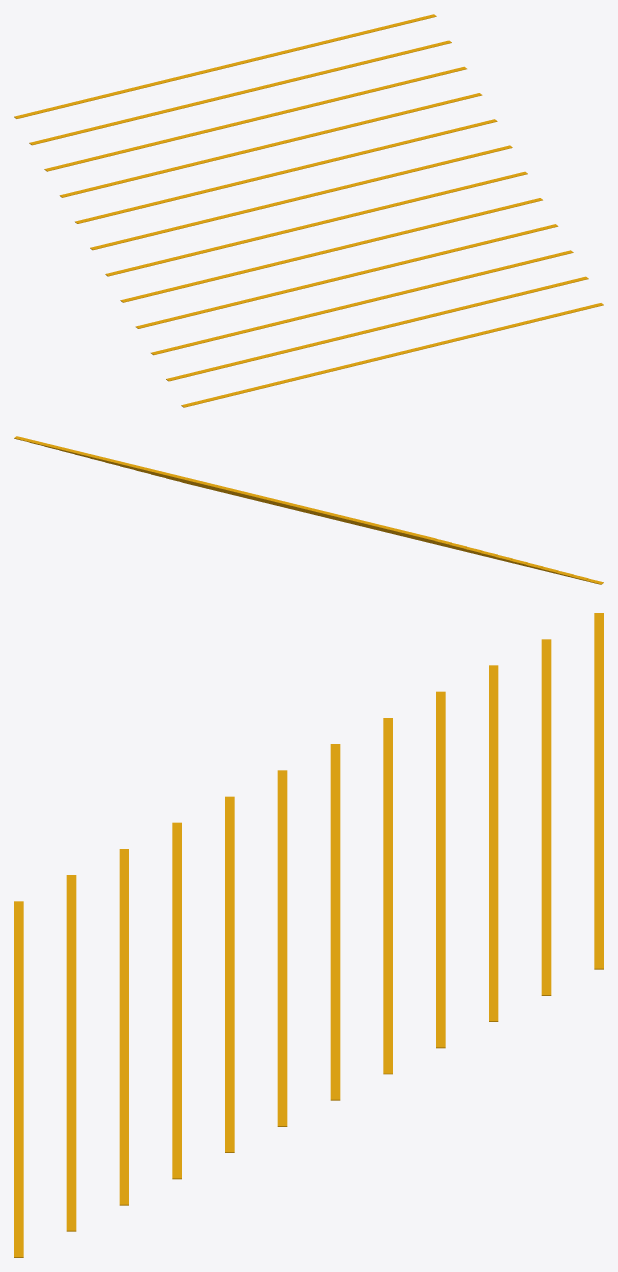
The model's file is gteki_ik_stair_n12_r165_t301_w4817_nosing.glb.
3 renders of one model, top to bottom at view 1: azimuth 30°, elevation 25°; view 2: azimuth 150°, elevation 25°; view 3: azimuth 270°, elevation 25°, orthographic. The views are drawn at different scales.
Parts seen in each view (by area): view 1: VIS_body; view 2: VIS_body; view 3: VIS_body.
Part boxes in pixels (x1,y1,x2,y2): VIS_body: [14, 14, 603, 407]; VIS_body: [14, 436, 603, 584]; VIS_body: [14, 613, 603, 1257].
Size of the model in its own units: 4.8 by 1.82 by 3.37.
Materials: 1 (1 with a texture image).
